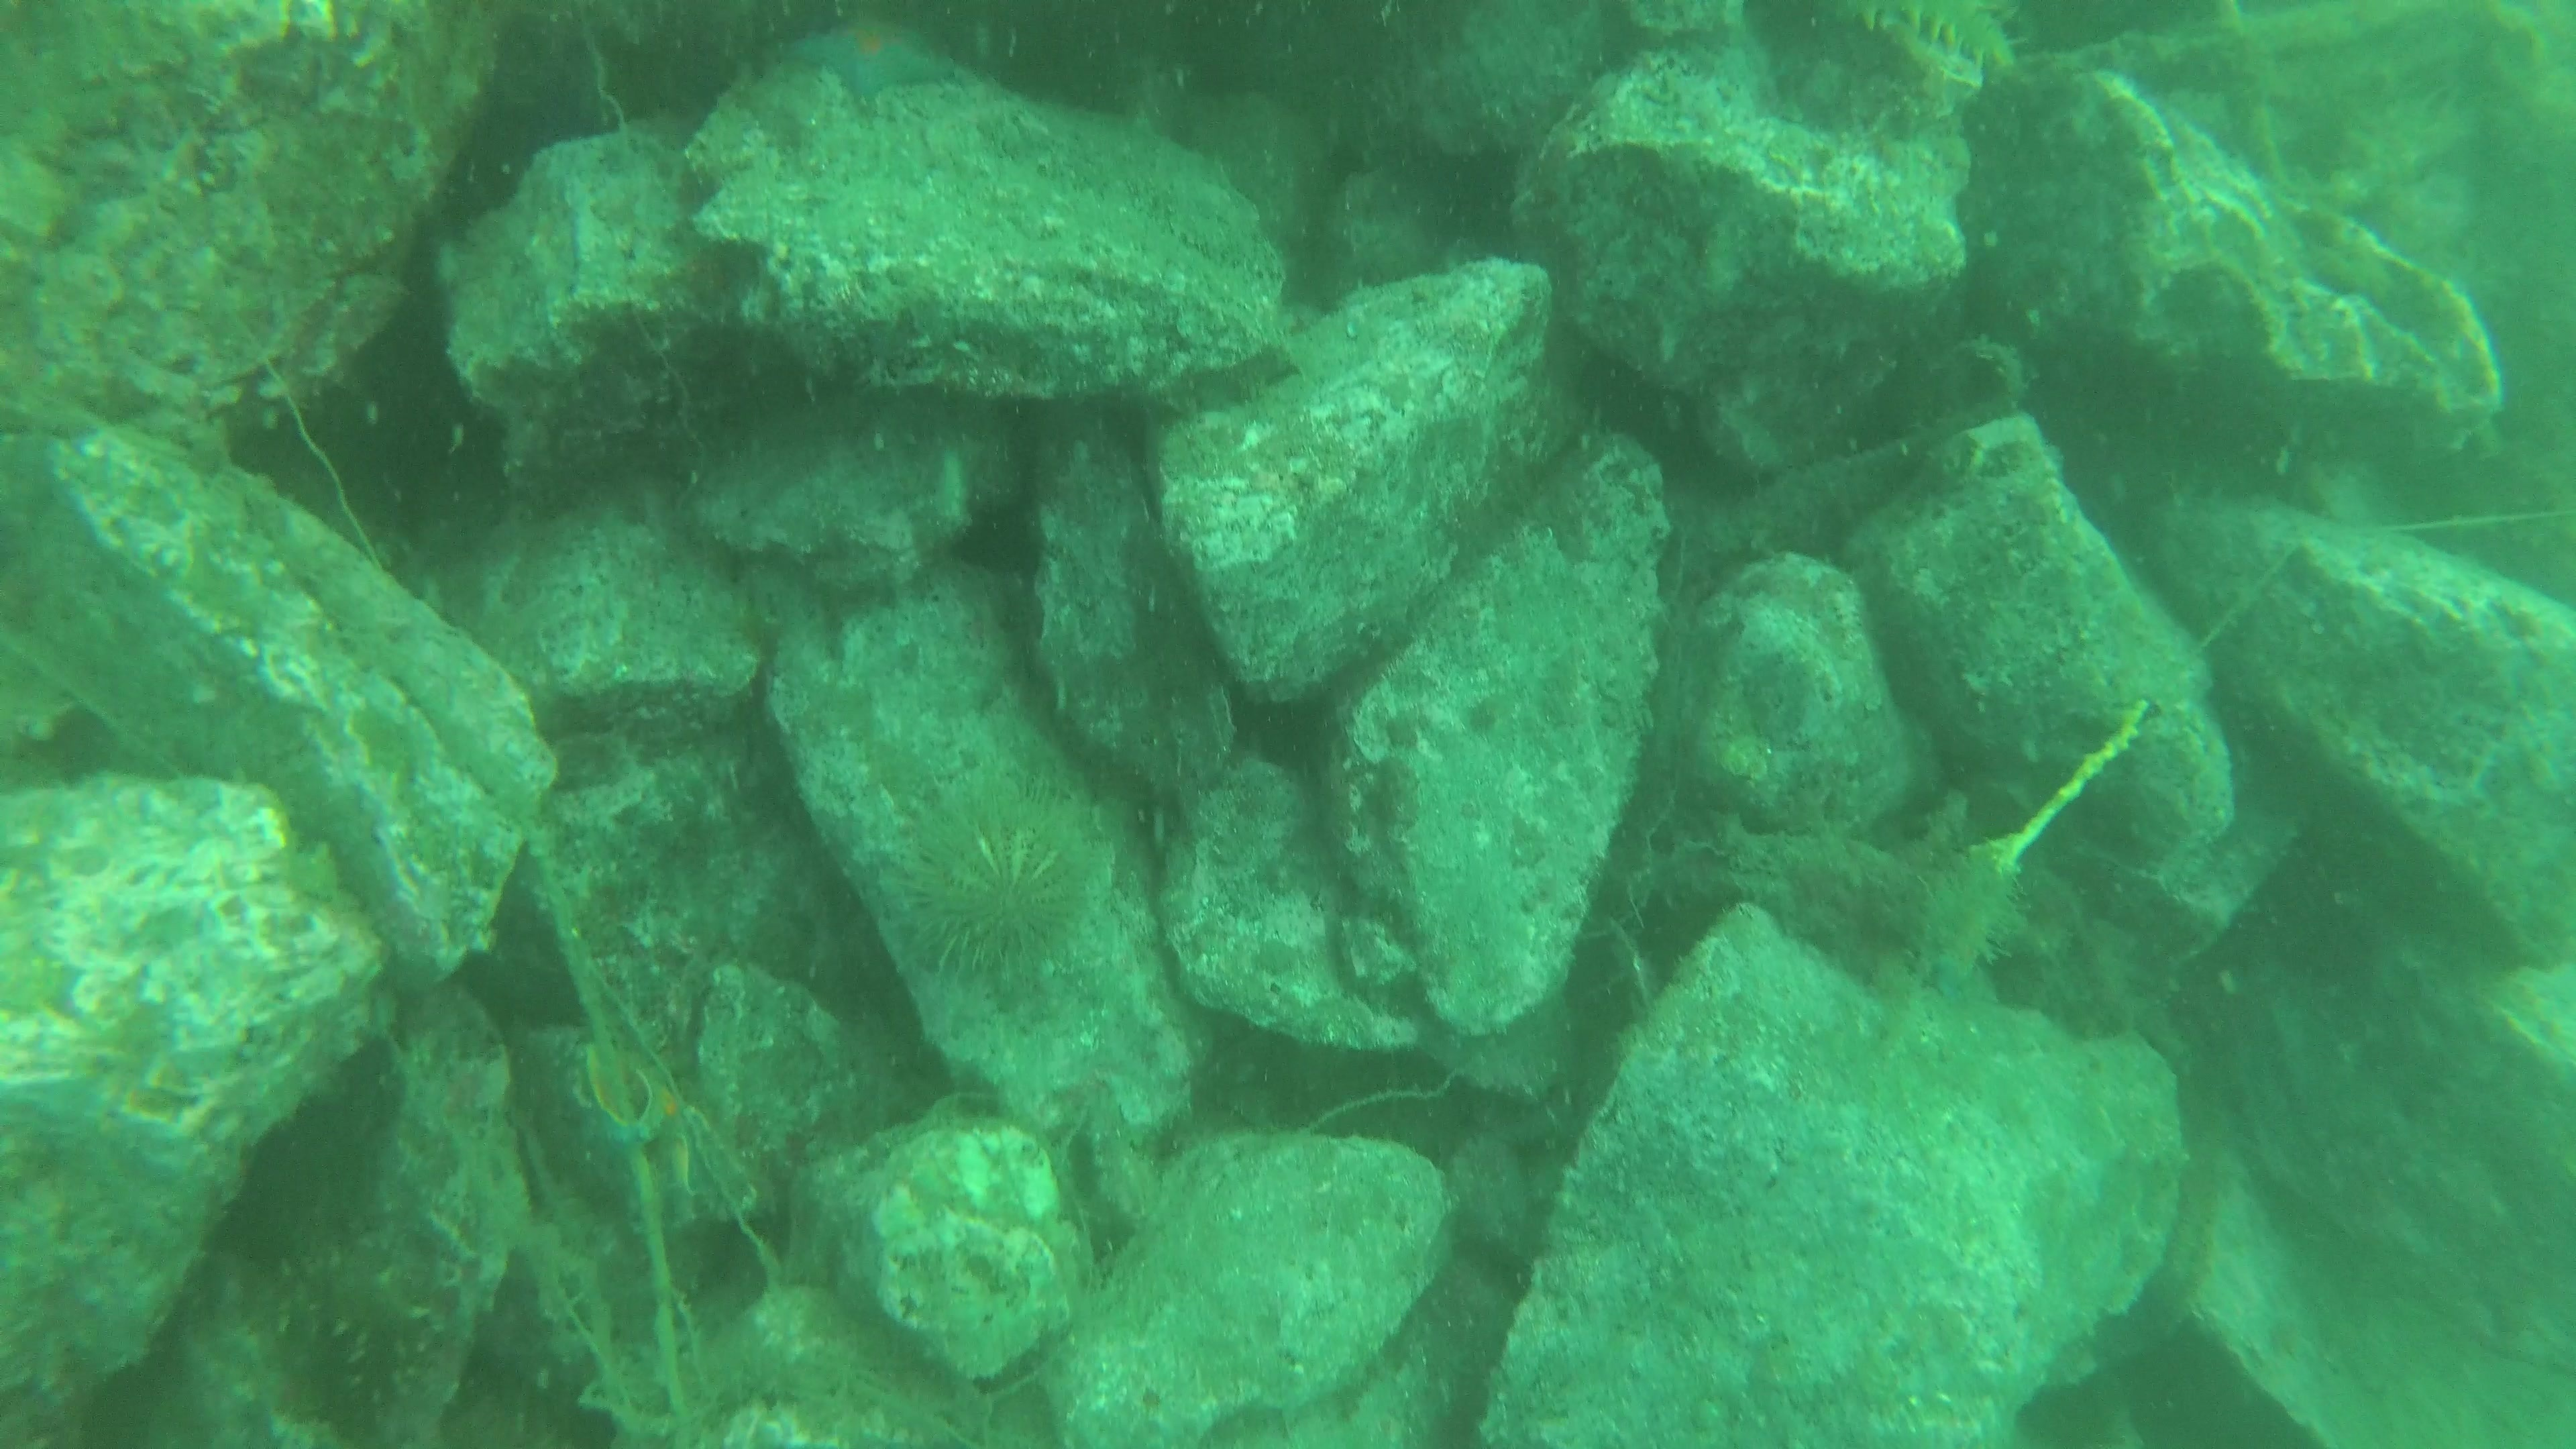echinus: (892, 786, 1104, 994)
holothurian: (271, 1240, 444, 1440), (1838, 2, 2026, 97)
starfish: (780, 12, 966, 111), (577, 1049, 688, 1184)
